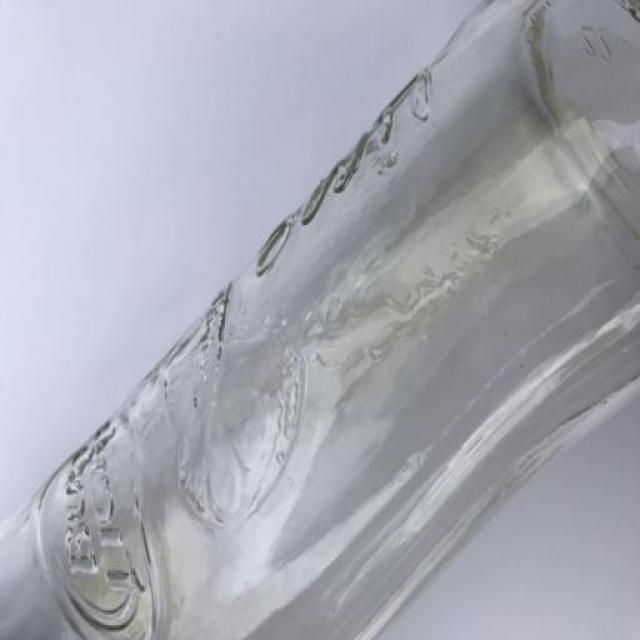Waste: (0, 2, 640, 638)
